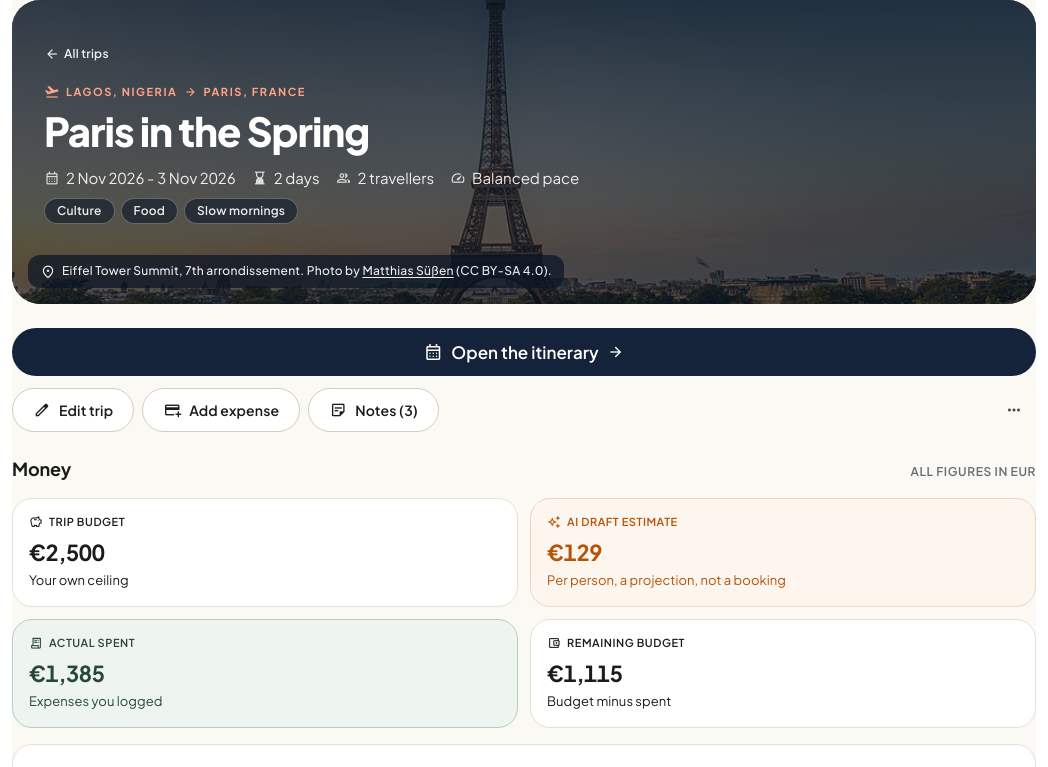
TripOverviewPage › the action hierarchy › offers both of them from the overflow menu
This screenshot has width=1048, height=767.
What coordinates should you click on to do the following:
click the button named "More actions for this trip"
I would click on:
 (1014, 410)
Its box is [992,388,1036,432].
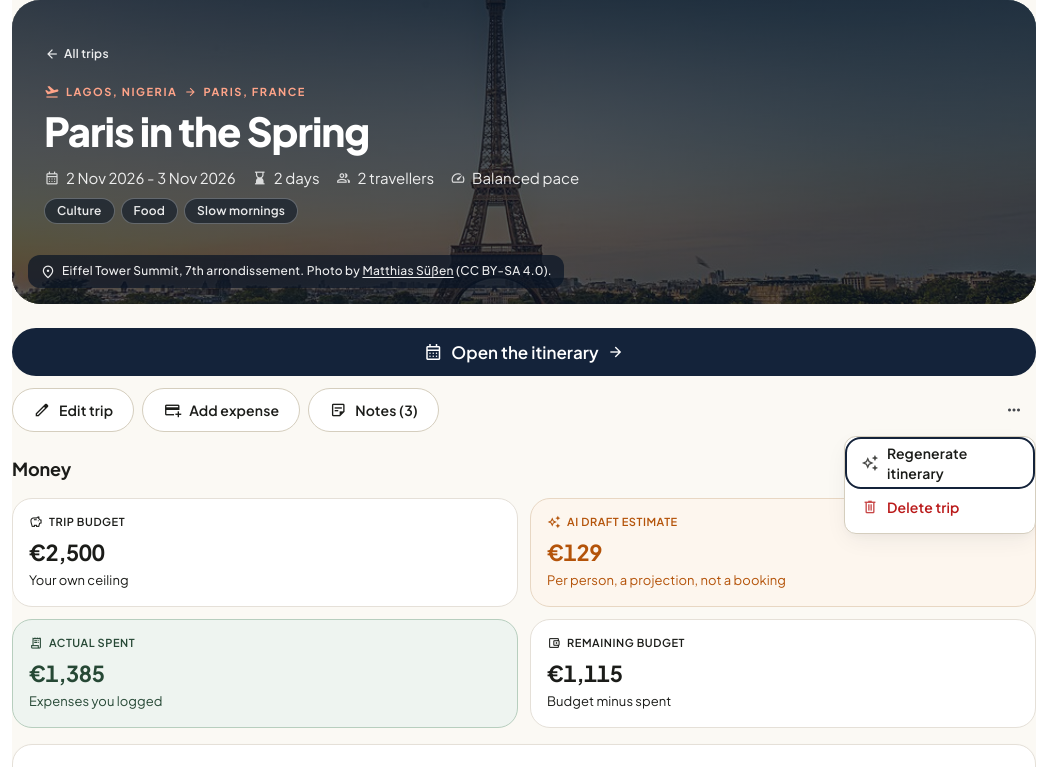
Expected: the menu item "Regenerate itinerary" is enabled, [849,441,1031,485]
Expected: the menu item "Delete trip" is enabled, [849,485,1031,529]
